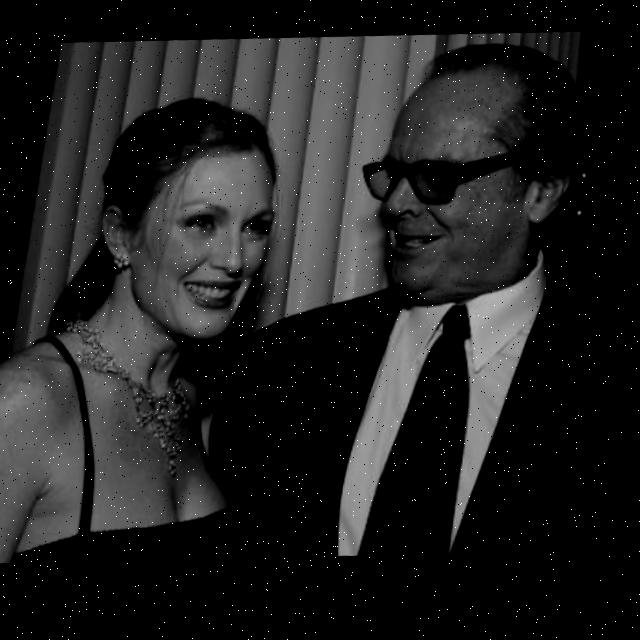face: (364, 61, 571, 300), (118, 135, 289, 350)
